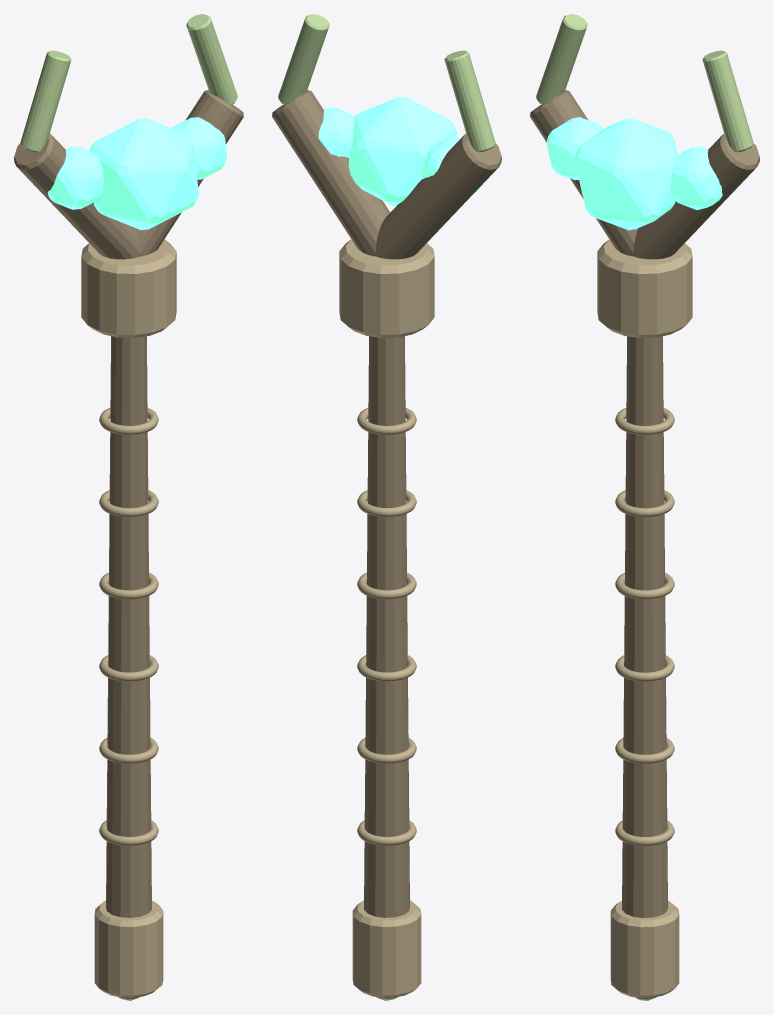
Rendered from mage-staff-04-verdant-root.glb.
The picture shows the model from 3 angles, left to right: view 1: azimuth 30°, elevation 25°; view 2: azimuth 150°, elevation 25°; view 3: azimuth 330°, elevation 25°; orthographic projection.
Parts seen in each view (by area): view 1: mage-staff-04-verdant-root_WoodenShaft, mage-staff-04-verdant-root_CrownStar, mage-staff-04-verdant-root_CrownCollar, mage-staff-04-verdant-root_LowerFerrule, mage-staff-04-verdant-root_BranchMain_-1, mage-staff-04-verdant-root_BranchTip_-1, mage-staff-04-verdant-root_RootEmerald_-1, mage-staff-04-verdant-root_BranchTip_1, mage-staff-04-verdant-root_BranchMain_1, mage-staff-04-verdant-root_RootEmerald_1, mage-staff-04-verdant-root_ShaftBand_6, mage-staff-04-verdant-root_ShaftBand_5 (+4 smaller); view 2: mage-staff-04-verdant-root_WoodenShaft, mage-staff-04-verdant-root_CrownCollar, mage-staff-04-verdant-root_CrownStar, mage-staff-04-verdant-root_BranchMain_-1, mage-staff-04-verdant-root_BranchMain_1, mage-staff-04-verdant-root_LowerFerrule, mage-staff-04-verdant-root_BranchTip_-1, mage-staff-04-verdant-root_BranchTip_1, mage-staff-04-verdant-root_RootEmerald_1, mage-staff-04-verdant-root_ShaftBand_6, mage-staff-04-verdant-root_ShaftBand_5, mage-staff-04-verdant-root_ShaftBand_4 (+4 smaller); view 3: mage-staff-04-verdant-root_WoodenShaft, mage-staff-04-verdant-root_CrownStar, mage-staff-04-verdant-root_CrownCollar, mage-staff-04-verdant-root_LowerFerrule, mage-staff-04-verdant-root_BranchMain_1, mage-staff-04-verdant-root_BranchTip_1, mage-staff-04-verdant-root_RootEmerald_1, mage-staff-04-verdant-root_BranchTip_-1, mage-staff-04-verdant-root_BranchMain_-1, mage-staff-04-verdant-root_RootEmerald_-1, mage-staff-04-verdant-root_ShaftBand_6, mage-staff-04-verdant-root_ShaftBand_5 (+4 smaller).
Boxes of the visible parts, left/top/right/bottom form: mage-staff-04-verdant-root_WoodenShaft: left=106, top=336, right=151, bottom=917; mage-staff-04-verdant-root_CrownStar: left=89, top=118, right=198, bottom=230; mage-staff-04-verdant-root_CrownCollar: left=81, top=239, right=176, bottom=337; mage-staff-04-verdant-root_LowerFerrule: left=94, top=900, right=163, bottom=997; mage-staff-04-verdant-root_BranchMain_-1: left=14, top=133, right=140, bottom=259; mage-staff-04-verdant-root_BranchTip_-1: left=20, top=50, right=71, bottom=152; mage-staff-04-verdant-root_RootEmerald_-1: left=47, top=146, right=103, bottom=209; mage-staff-04-verdant-root_BranchTip_1: left=186, top=14, right=237, bottom=104; mage-staff-04-verdant-root_BranchMain_1: left=136, top=90, right=243, bottom=256; mage-staff-04-verdant-root_RootEmerald_1: left=171, top=117, right=227, bottom=179; mage-staff-04-verdant-root_ShaftBand_6: left=99, top=408, right=158, bottom=434; mage-staff-04-verdant-root_ShaftBand_5: left=99, top=490, right=158, bottom=516; mage-staff-04-verdant-root_WoodenShaft: left=364, top=336, right=409, bottom=917; mage-staff-04-verdant-root_CrownCollar: left=339, top=239, right=434, bottom=337; mage-staff-04-verdant-root_CrownStar: left=348, top=97, right=456, bottom=207; mage-staff-04-verdant-root_BranchMain_-1: left=375, top=133, right=501, bottom=259; mage-staff-04-verdant-root_BranchMain_1: left=272, top=90, right=390, bottom=256; mage-staff-04-verdant-root_LowerFerrule: left=352, top=900, right=421, bottom=997; mage-staff-04-verdant-root_BranchTip_-1: left=444, top=50, right=495, bottom=152; mage-staff-04-verdant-root_BranchTip_1: left=278, top=14, right=329, bottom=104; mage-staff-04-verdant-root_RootEmerald_1: left=318, top=107, right=354, bottom=157; mage-staff-04-verdant-root_ShaftBand_6: left=357, top=408, right=416, bottom=434; mage-staff-04-verdant-root_ShaftBand_5: left=357, top=490, right=416, bottom=516; mage-staff-04-verdant-root_ShaftBand_4: left=357, top=572, right=416, bottom=599; mage-staff-04-verdant-root_WoodenShaft: left=622, top=336, right=667, bottom=917; mage-staff-04-verdant-root_CrownStar: left=575, top=118, right=678, bottom=230; mage-staff-04-verdant-root_CrownCollar: left=597, top=239, right=692, bottom=337; mage-staff-04-verdant-root_LowerFerrule: left=610, top=900, right=679, bottom=997; mage-staff-04-verdant-root_BranchMain_1: left=632, top=133, right=759, bottom=259; mage-staff-04-verdant-root_BranchTip_1: left=702, top=50, right=753, bottom=152; mage-staff-04-verdant-root_RootEmerald_1: left=670, top=146, right=722, bottom=209; mage-staff-04-verdant-root_BranchTip_-1: left=536, top=14, right=587, bottom=104; mage-staff-04-verdant-root_BranchMain_-1: left=530, top=90, right=637, bottom=256; mage-staff-04-verdant-root_RootEmerald_-1: left=546, top=117, right=603, bottom=180; mage-staff-04-verdant-root_ShaftBand_6: left=615, top=408, right=674, bottom=434; mage-staff-04-verdant-root_ShaftBand_5: left=615, top=490, right=674, bottom=516.
Size of the model in its own units: 0.481 by 1.99 by 0.2442.
